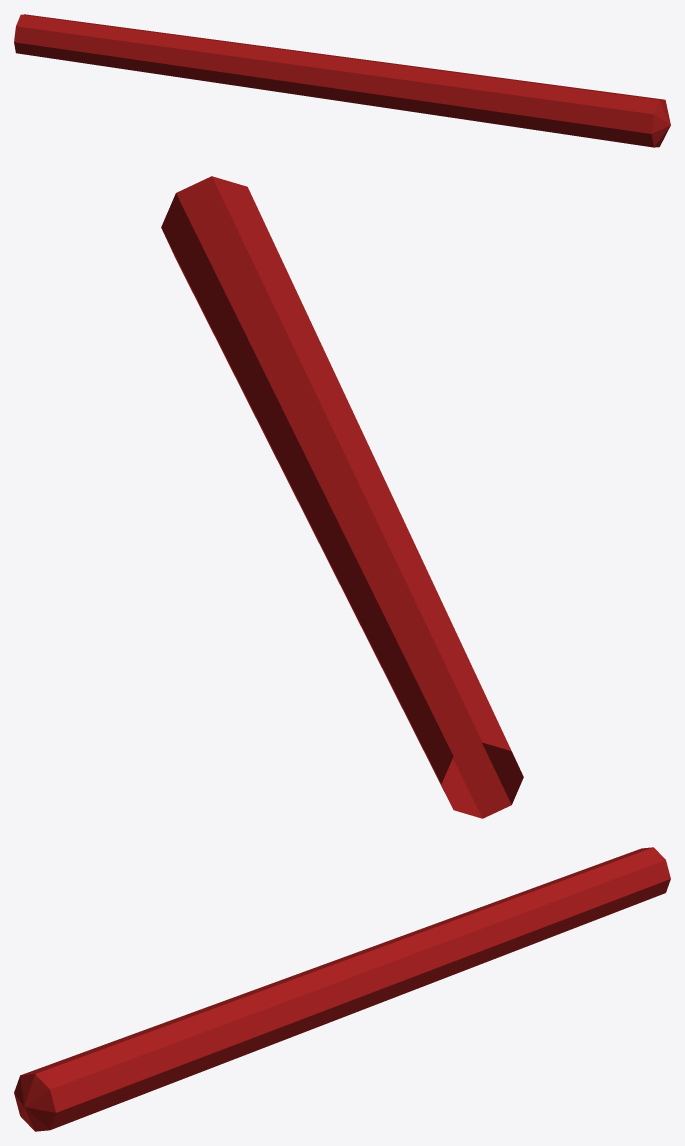
Rendered from cylinder.008_material.010_0_lev1.glb.
3 views of the same model, one above another, from view 1: azimuth 30°, elevation 25°; view 2: azimuth 150°, elevation 25°; view 3: azimuth 270°, elevation 25° (orthographic). The views are drawn at different scales.
Visible parts, largest first — view 1: cylinder.008_material.010_0_lev1; view 2: cylinder.008_material.010_0_lev1; view 3: cylinder.008_material.010_0_lev1.
Boxes of the visible parts, x1=… form: cylinder.008_material.010_0_lev1: x1=14, y1=14, x2=670, y2=147; cylinder.008_material.010_0_lev1: x1=161, y1=176, x2=523, y2=818; cylinder.008_material.010_0_lev1: x1=14, y1=847, x2=670, y2=1131.
Bounding box in the file's own units: 5.81 × 0.6235 × 6.44.
